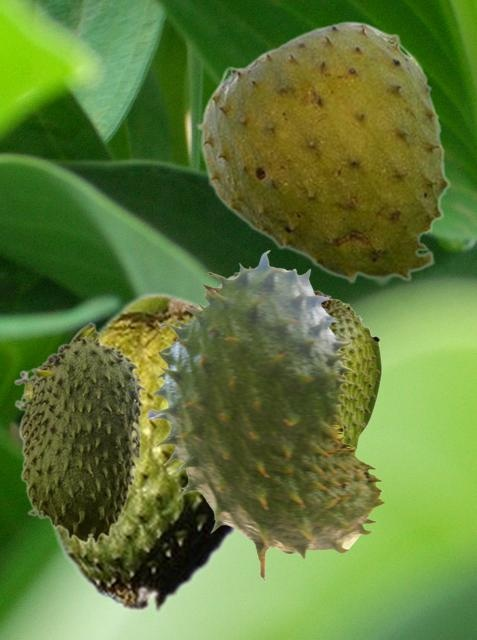guyabano: (147, 250, 384, 580), (195, 20, 450, 286), (48, 291, 239, 616), (218, 265, 381, 449), (14, 321, 147, 543)
